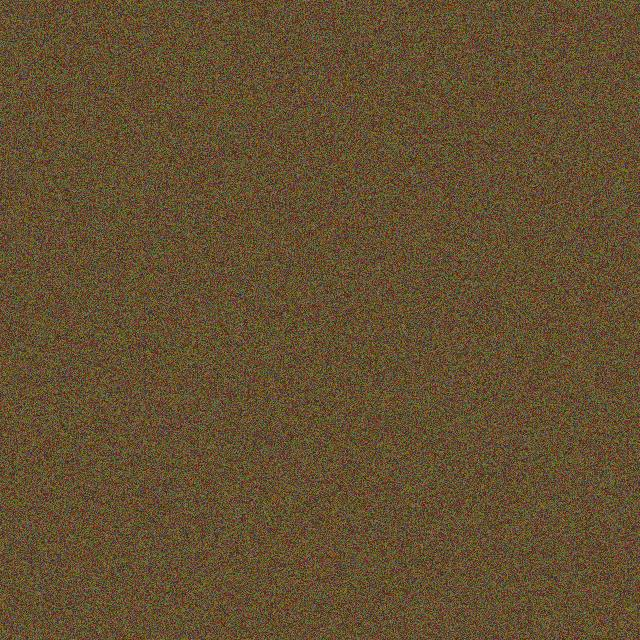unknown_man_made_object: (336, 276, 440, 315)
